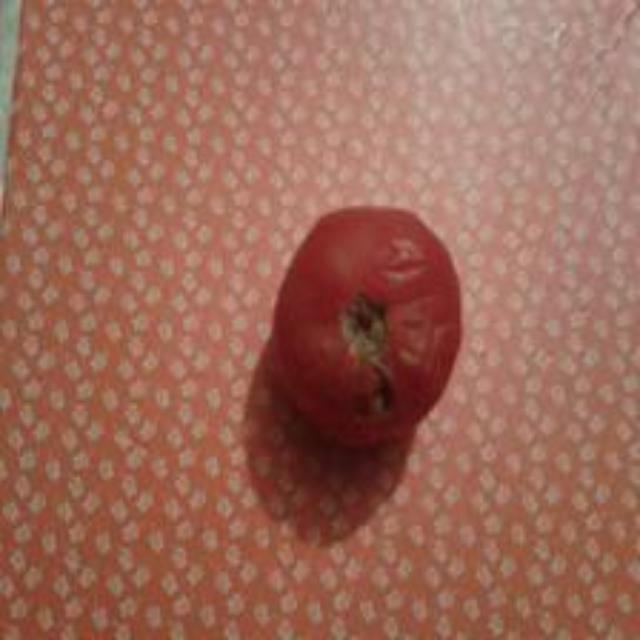defect: (262, 200, 465, 454)
